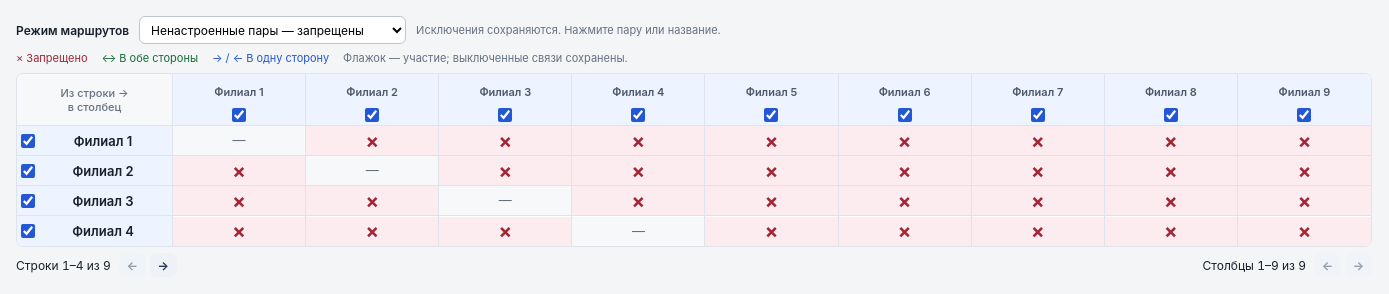
Test: route matrix › recomputes axis pages when a parent warning reduces the available height
Click the button named "Следующие строки".
click(163, 265)  # box [150,253,177,277]
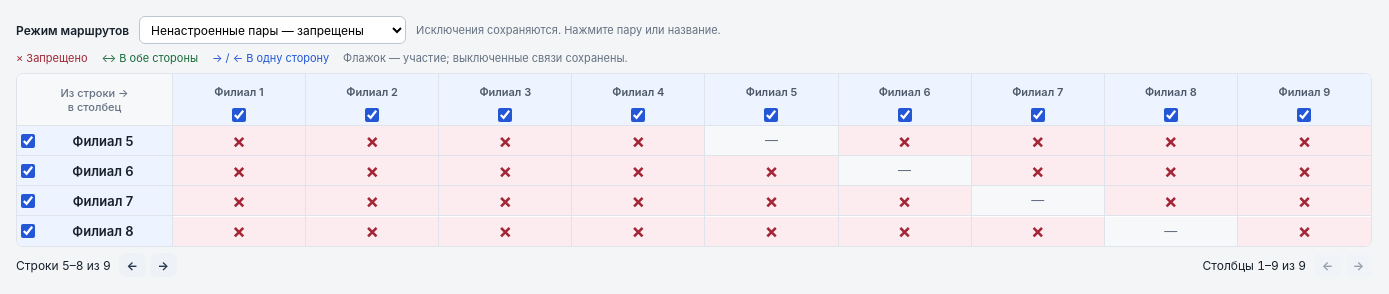
Result: the button with aria-label "Настроить направления Филиал 8, строка" is shown at [38,216,168,246]
